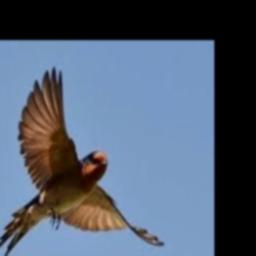Swallow: (0, 67, 165, 256)
